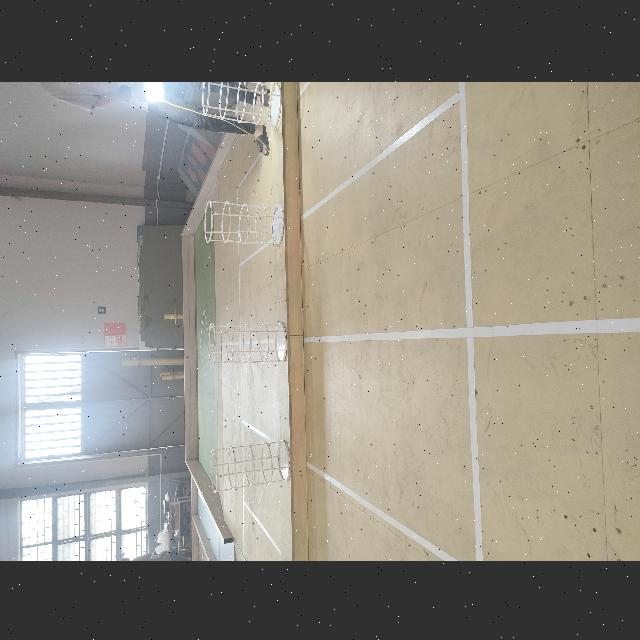S: (204, 194, 288, 252), (208, 436, 294, 490), (199, 80, 284, 133), (204, 320, 290, 364)
